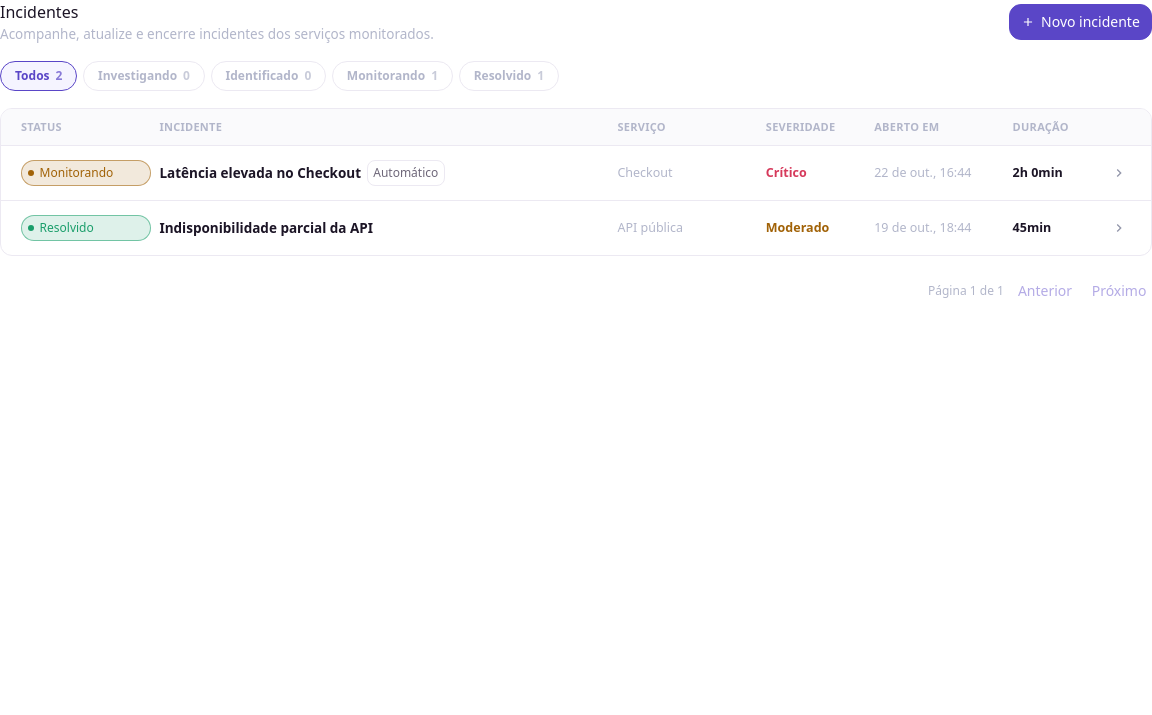
IncidentsPage › clicking a row opens the detail drawer with title, service, and severity
The image size is (1152, 715).
Click the text "Latência elevada no Checkout".
click(260, 173)  # box [159,163,361,184]
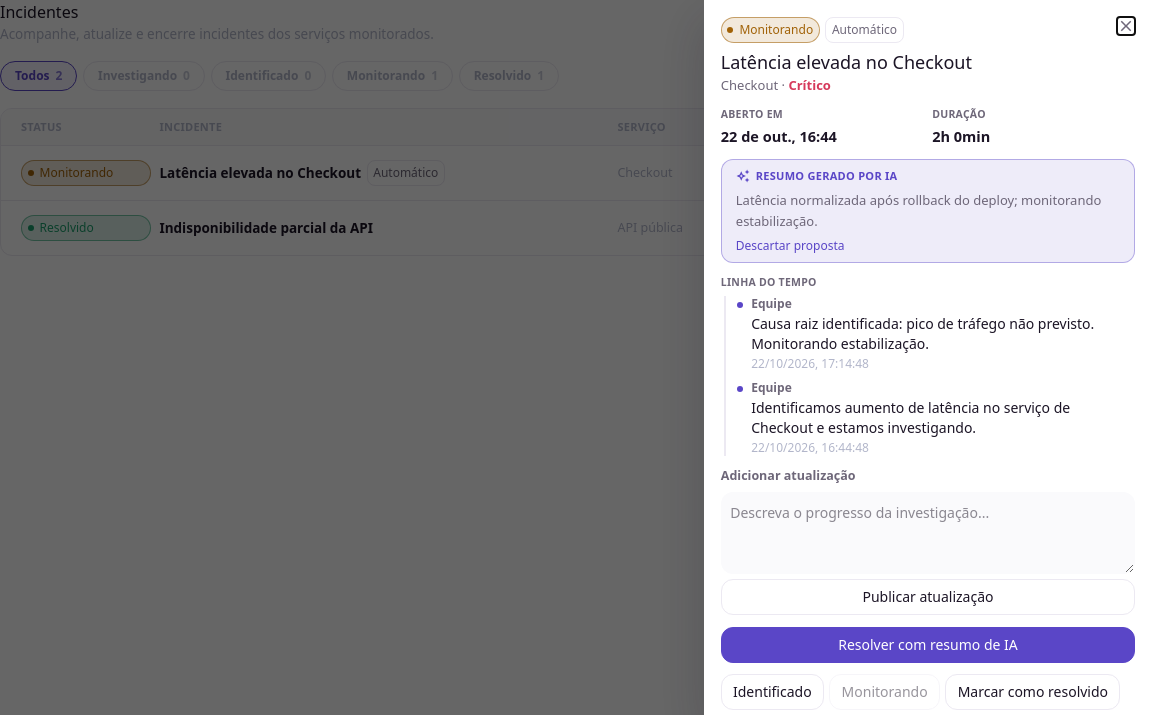
Check: the heading "Latência elevada no Checkout" is shown, box [721,50,972,74]
Check: the element with test id "incident-detail-subtitle" shows "Checkout", box [721,76,778,94]
Check: the element with test id "incident-detail-subtitle" shows "Crítico", box [788,76,831,94]
